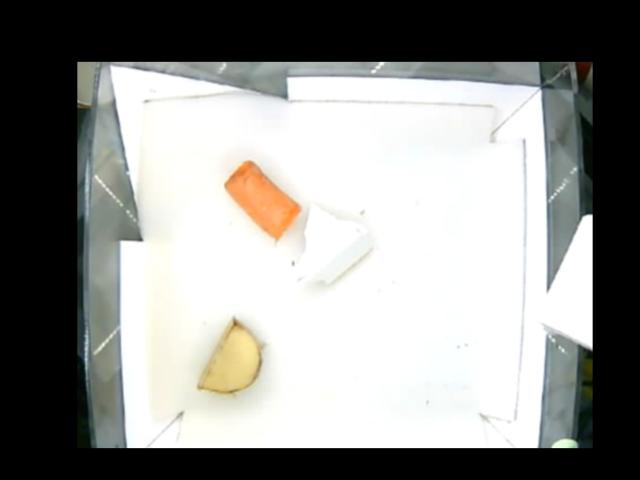Carrot: (223, 159, 297, 240)
China: (289, 203, 374, 291)
Potato: (193, 316, 260, 390)
